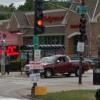Car: (29, 49, 86, 78)
